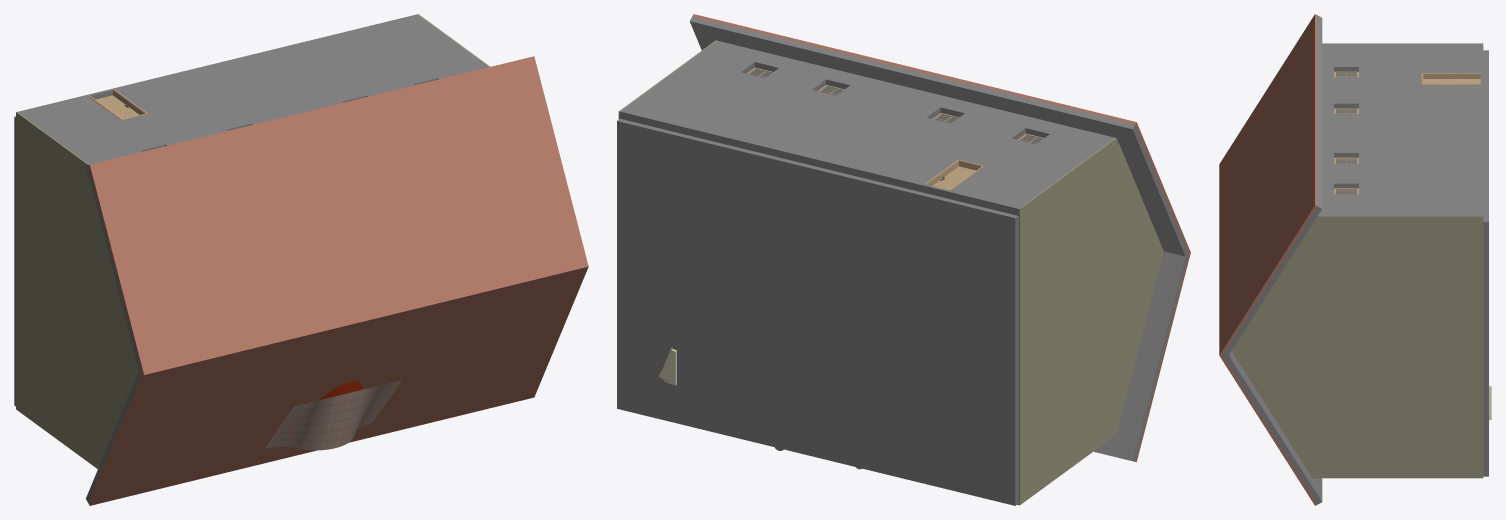
The model's file is Manor house.obj.
3 views of the same model, side by side, from view 1: azimuth 30°, elevation 25°; view 2: azimuth 150°, elevation 25°; view 3: azimuth 270°, elevation 25° (orthographic). The views are drawn at different scales.
Visible parts, largest first — view 1: ROOF GROUND_FLOOR PAINT_-_PEACH, WALL GROUND_FLOOR PAINT_-_SAND_BEIGE, WALL GROUND_FLOOR PAINT_-_LIGHT_GRAY, OBJ STORY_2 ROOF_TILES_-_FRENCH_RED SMOOTH_PART, ROOF GROUND_FLOOR PAINT_-_LIGHT_GRAY, DOOR GROUND_FLOOR WOOD_-_PINE_GRAINED_HORIZONTAL FLAT_PART; view 2: CEIL GROUND_FLOOR PAINT_-_LIGHT_GRAY, WALL GROUND_FLOOR PAINT_-_LIGHT_GRAY, WALL GROUND_FLOOR PAINT_-_SAND_BEIGE, ROOF GROUND_FLOOR PAINT_-_LIGHT_GRAY, ROOF GROUND_FLOOR PAINT_-_PEACH, CEIL STORY_1 PAINT_-_LIGHT_GRAY FLAT_PART, DOOR GROUND_FLOOR WOOD_-_PINE_GRAINED_HORIZONTAL FLAT_PART; view 3: WALL GROUND_FLOOR PAINT_-_SAND_BEIGE, WALL GROUND_FLOOR PAINT_-_LIGHT_GRAY, ROOF GROUND_FLOOR PAINT_-_PEACH, ROOF GROUND_FLOOR PAINT_-_LIGHT_GRAY, CEIL GROUND_FLOOR PAINT_-_LIGHT_GRAY, DOOR GROUND_FLOOR WOOD_-_PINE_GRAINED_HORIZONTAL FLAT_PART, WIND STORY_1 WOOD_-_PINE_GRAINED_HORIZONTAL, WIND STORY_1 GLASS_-_CLEAR_FAST, WALL GROUND_FLOOR PAINT_-_SAND_BEIGE FLAT_PART.
Boxes of the visible parts, bbox=[...] form: ROOF GROUND_FLOOR PAINT_-_PEACH: bbox=[88, 56, 588, 505]; WALL GROUND_FLOOR PAINT_-_SAND_BEIGE: bbox=[16, 14, 490, 468]; WALL GROUND_FLOOR PAINT_-_LIGHT_GRAY: bbox=[17, 14, 488, 164]; OBJ STORY_2 ROOF_TILES_-_FRENCH_RED SMOOTH_PART: bbox=[265, 380, 401, 450]; ROOF GROUND_FLOOR PAINT_-_LIGHT_GRAY: bbox=[86, 165, 142, 502]; DOOR GROUND_FLOOR WOOD_-_PINE_GRAINED_HORIZONTAL FLAT_PART: bbox=[88, 89, 147, 120]; CEIL GROUND_FLOOR PAINT_-_LIGHT_GRAY: bbox=[617, 118, 1018, 505]; WALL GROUND_FLOOR PAINT_-_LIGHT_GRAY: bbox=[620, 42, 1113, 215]; WALL GROUND_FLOOR PAINT_-_SAND_BEIGE: bbox=[618, 40, 1163, 505]; ROOF GROUND_FLOOR PAINT_-_LIGHT_GRAY: bbox=[689, 16, 1188, 461]; ROOF GROUND_FLOOR PAINT_-_PEACH: bbox=[692, 14, 1190, 462]; CEIL STORY_1 PAINT_-_LIGHT_GRAY FLAT_PART: bbox=[716, 40, 1118, 144]; DOOR GROUND_FLOOR WOOD_-_PINE_GRAINED_HORIZONTAL FLAT_PART: bbox=[925, 159, 984, 190]; WALL GROUND_FLOOR PAINT_-_SAND_BEIGE: bbox=[1232, 43, 1483, 477]; WALL GROUND_FLOOR PAINT_-_LIGHT_GRAY: bbox=[1318, 44, 1483, 215]; ROOF GROUND_FLOOR PAINT_-_PEACH: bbox=[1219, 14, 1317, 505]; ROOF GROUND_FLOOR PAINT_-_LIGHT_GRAY: bbox=[1222, 15, 1322, 504]; CEIL GROUND_FLOOR PAINT_-_LIGHT_GRAY: bbox=[1483, 50, 1488, 476]; DOOR GROUND_FLOOR WOOD_-_PINE_GRAINED_HORIZONTAL FLAT_PART: bbox=[1421, 73, 1480, 84]; WIND STORY_1 WOOD_-_PINE_GRAINED_HORIZONTAL: bbox=[1334, 71, 1358, 194]; WIND STORY_1 GLASS_-_CLEAR_FAST: bbox=[1336, 72, 1356, 194]; WALL GROUND_FLOOR PAINT_-_SAND_BEIGE FLAT_PART: bbox=[1312, 477, 1483, 478].
Bounding box in the file's own units: 16350 × 11998 × 9848.
